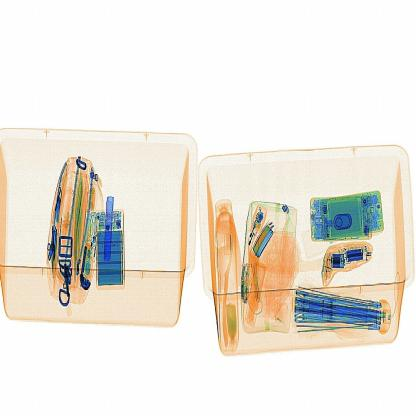pliers: (98, 186, 123, 266)
